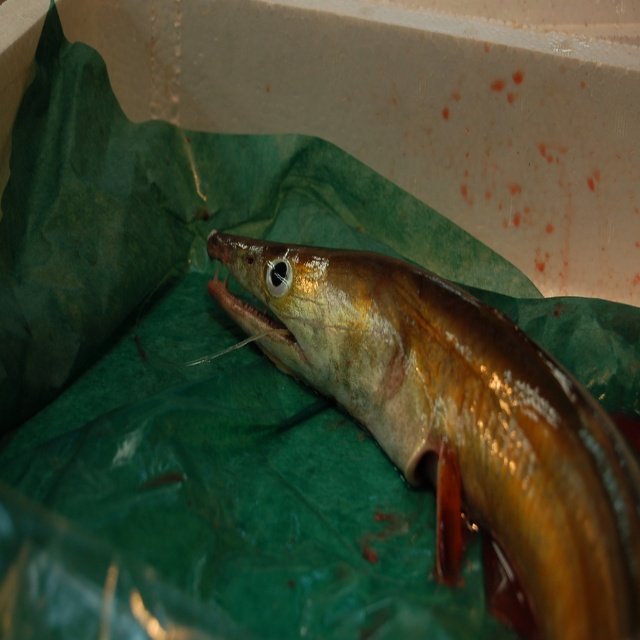Fish: (208, 226, 640, 639)
